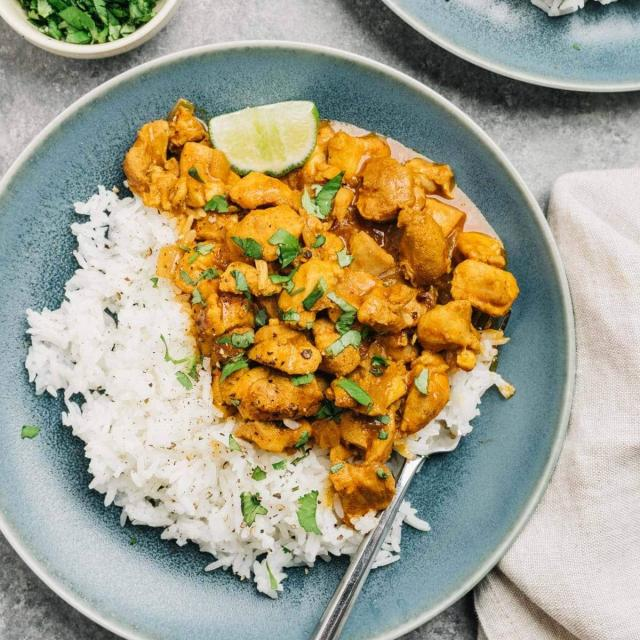chicken: (172, 82, 512, 472)
rice: (14, 225, 263, 526)
